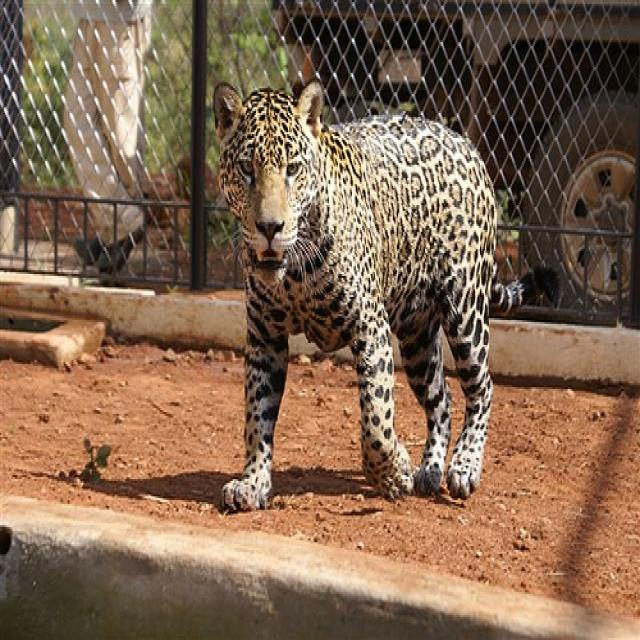Leopard: (205, 67, 503, 517)
